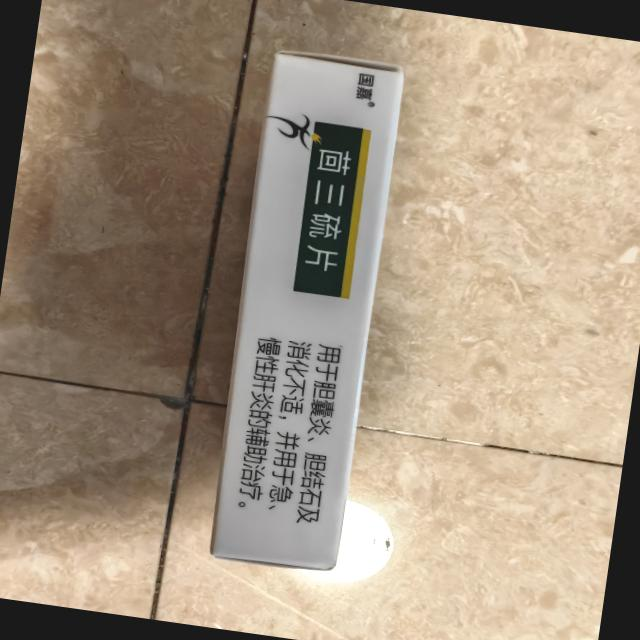box: (184, 38, 422, 588)
